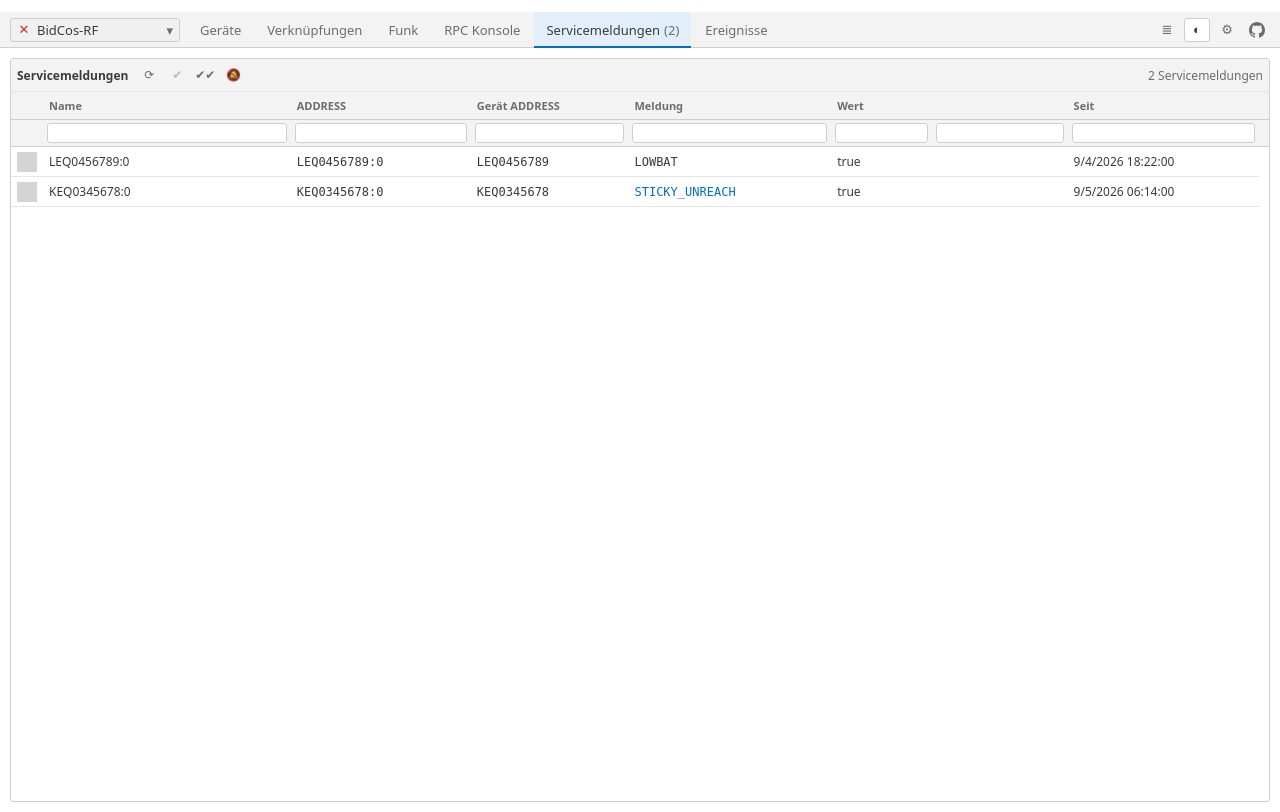
it: the service messages tab › keeps quiet when quiet mode is on, and remembers the choice (#102)
Click the button with test id "messages-quiet": (233, 75) [220,62,246,88]
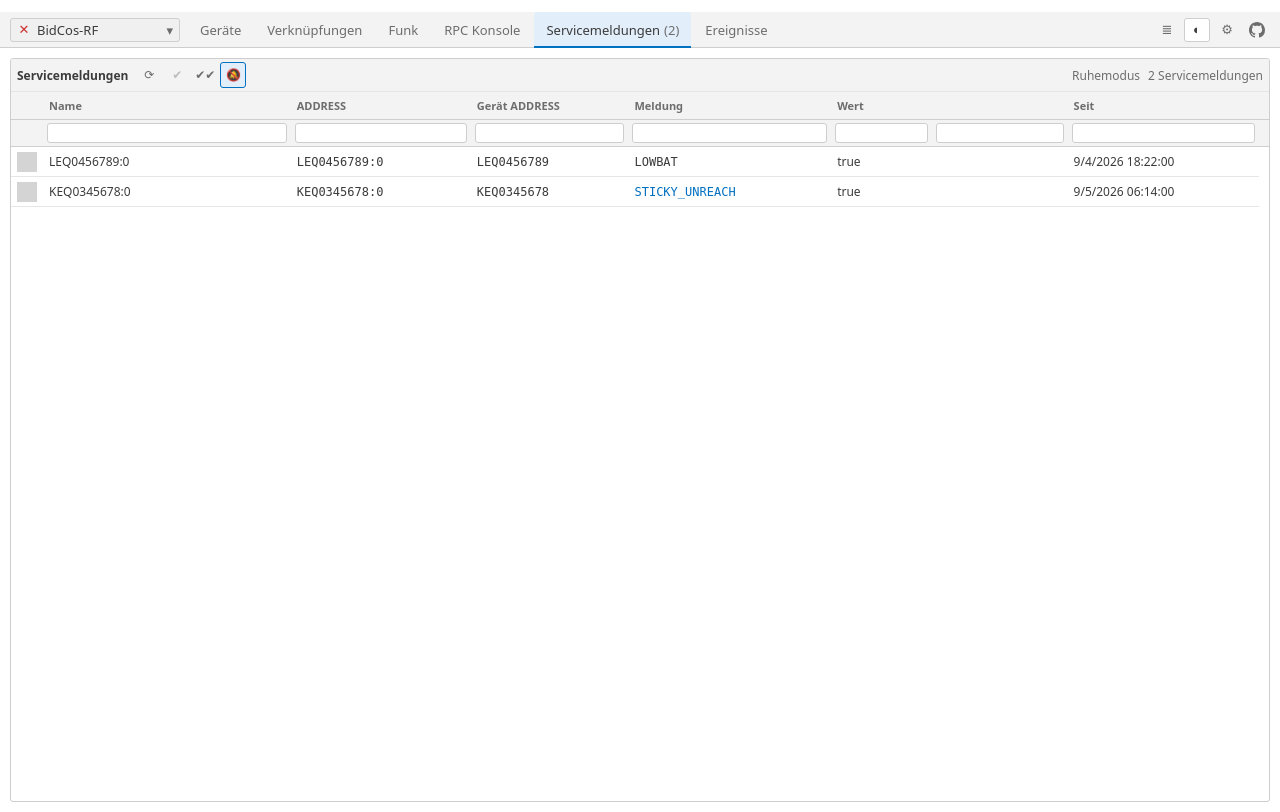
Check: the cell "true" next to "LOWBAT" is shown, box [837,153,861,170]
Check: the text "Ruhemodus" is shown, box [1072,66,1140,84]
